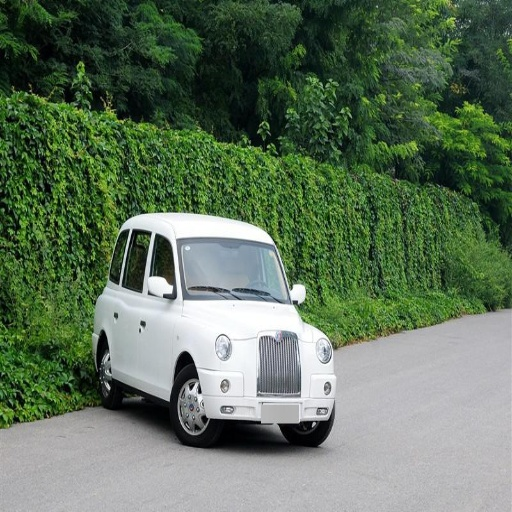hood: (224, 300, 301, 330)
trunk: (239, 353, 289, 393)
